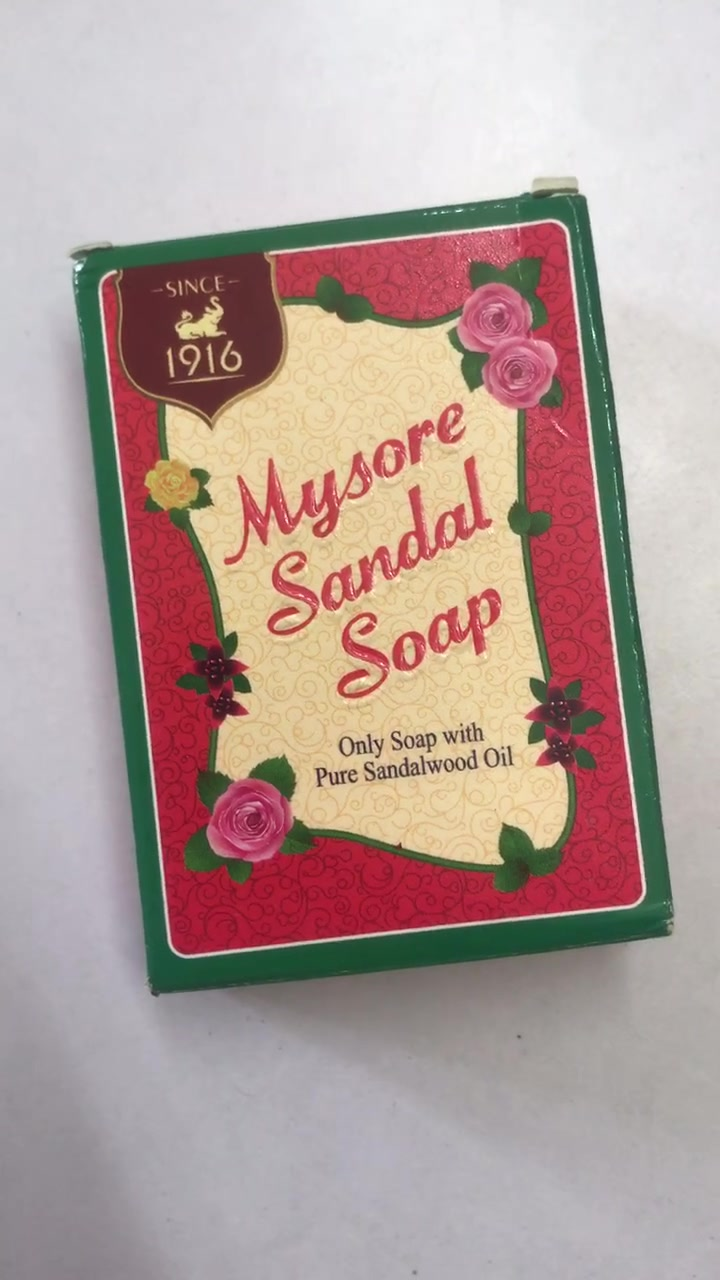mysore sandal soap: (58, 191, 681, 991)
